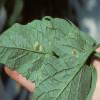Tomato mold leaf: (0, 16, 92, 85), (29, 30, 98, 100)
